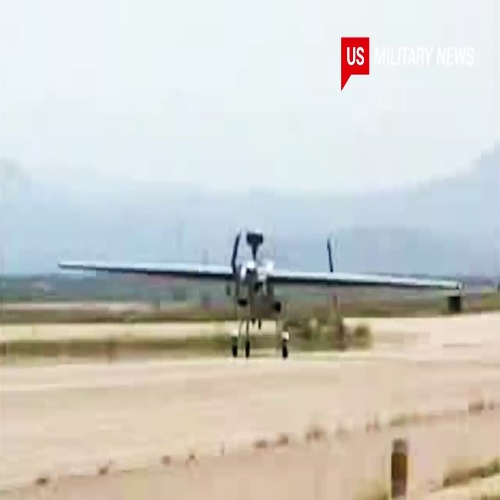uav: (57, 228, 462, 361)
